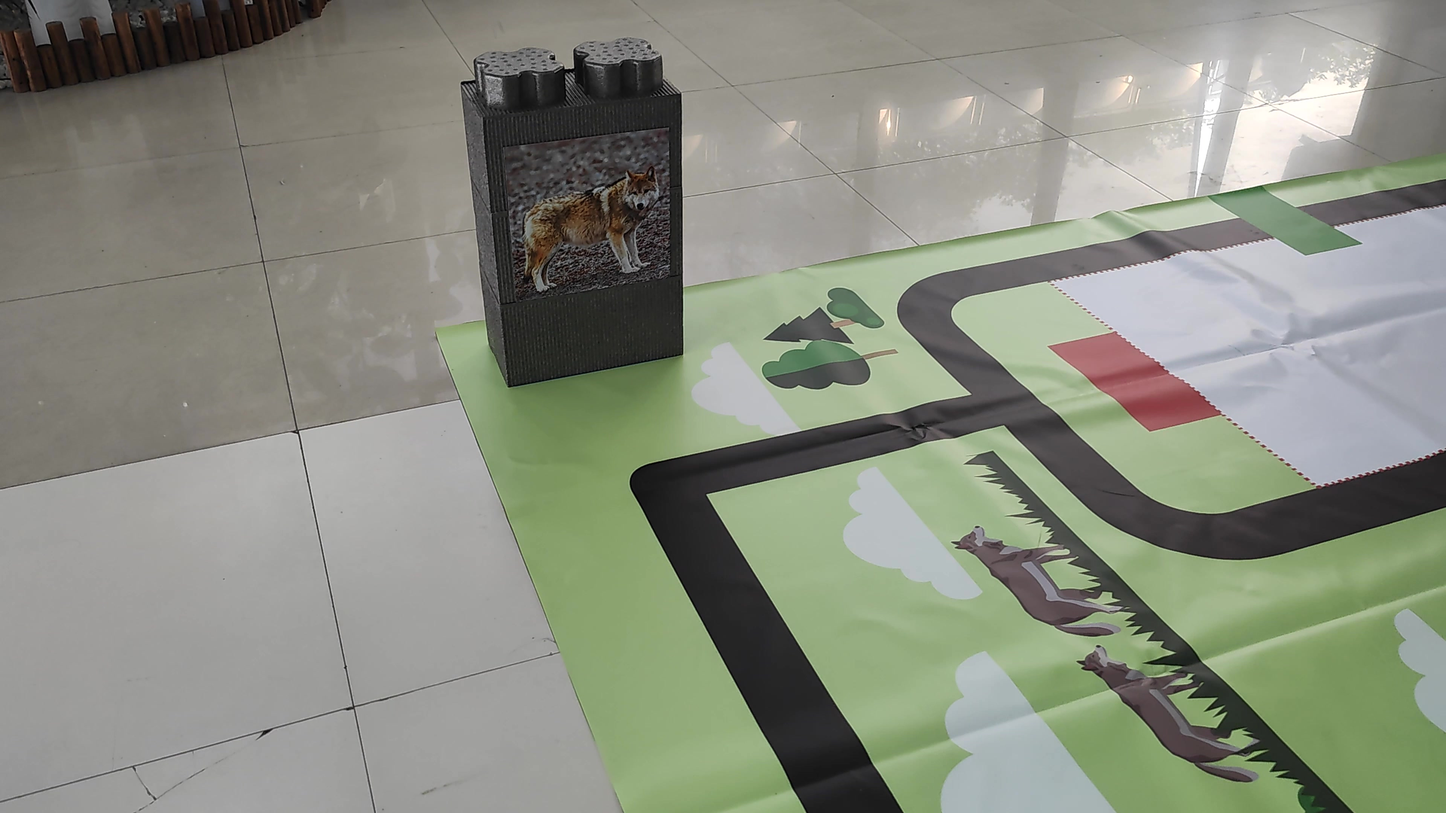wolf: (520, 152, 665, 315)
